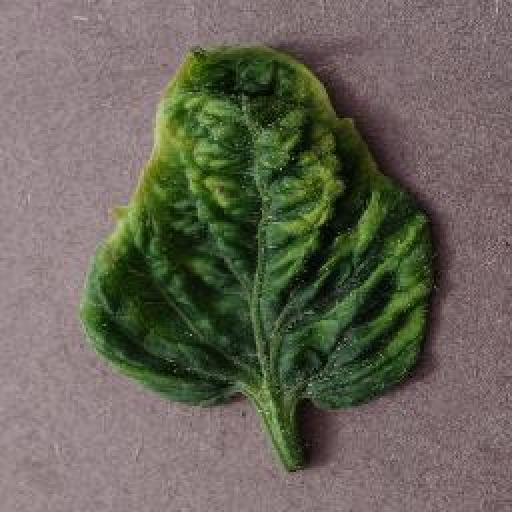disease_tomato: (78, 42, 430, 418)
